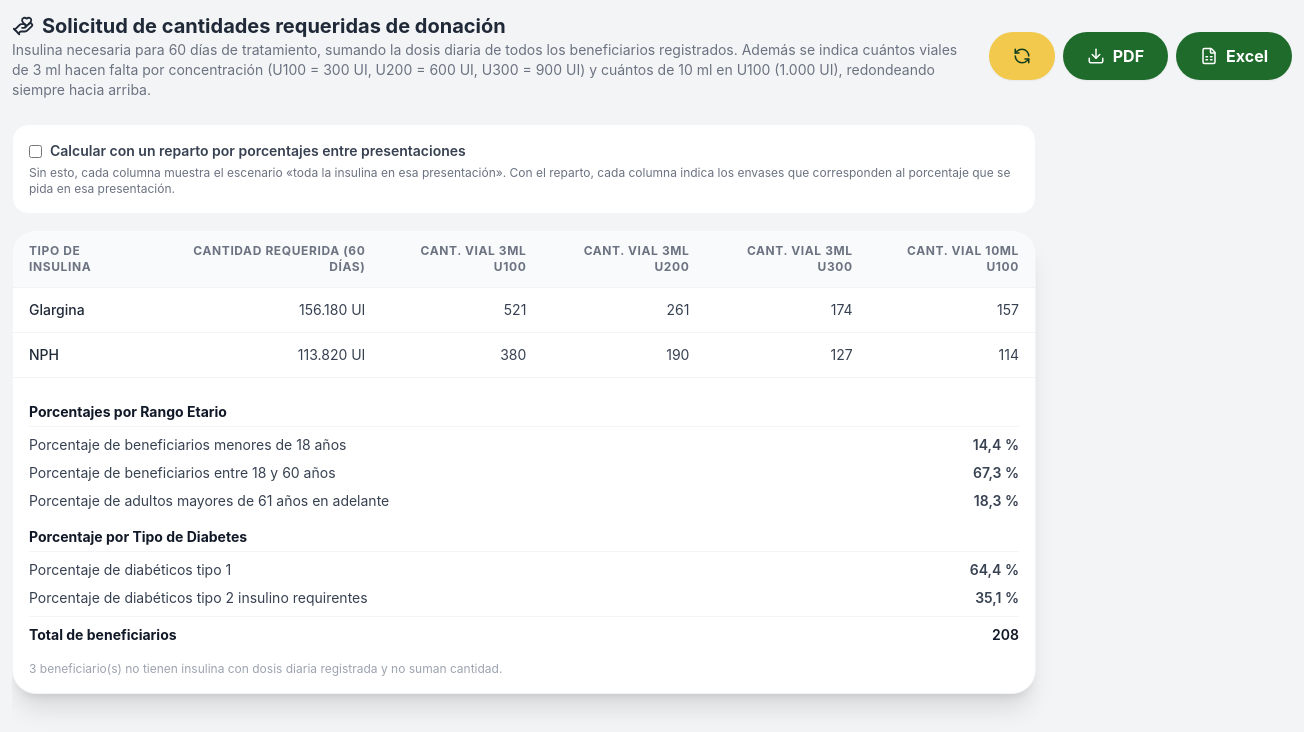
Test: Solicitud de donación: reparto por porcentajes entre presentaciones › si los porcentajes no suman 100 avisa y no pide el cálculo
Check: the text "Glargina" is shown, box [13,288,155,332]
Click the checkbox labelled "Calcular con un reparto por porcentajes entre presentaciones" at (36, 151), box [29,144,42,158]
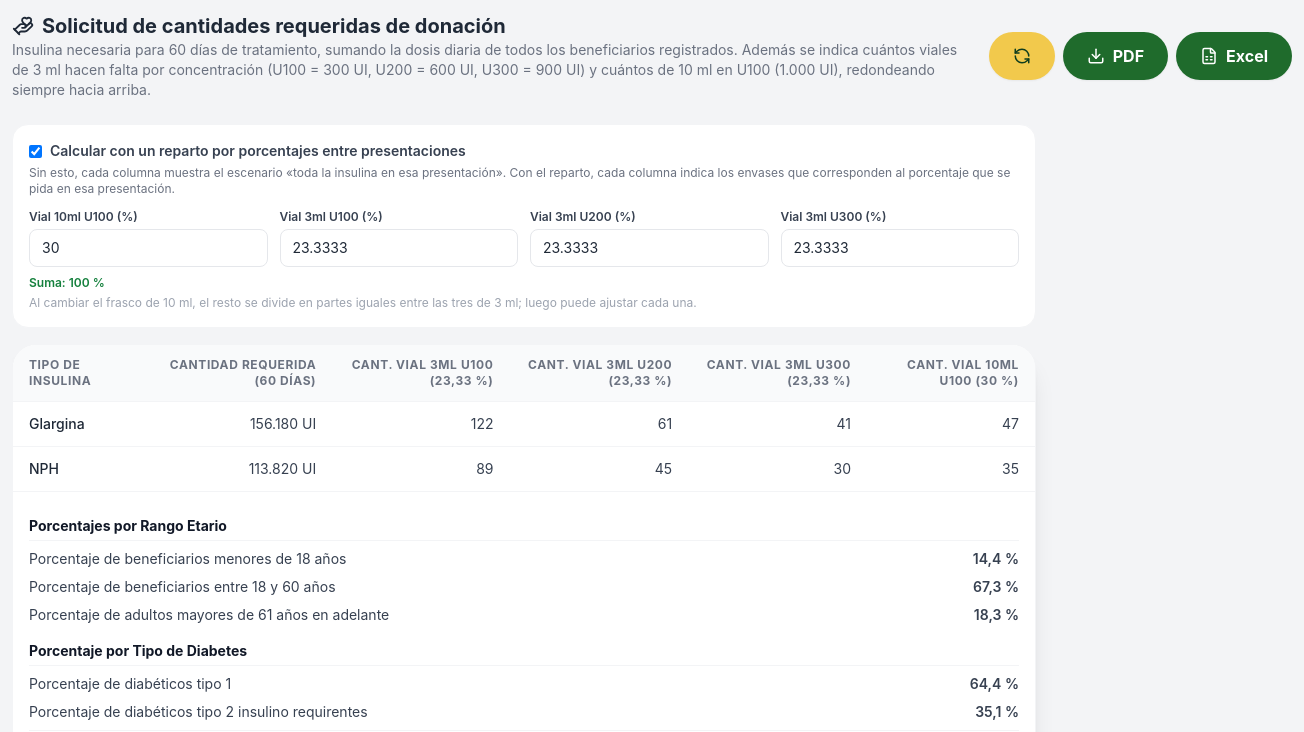
Replace the text in the number field labelled "Vial 3ml U200 (%)" with "50" at (649, 248), box [530,229,768,267]
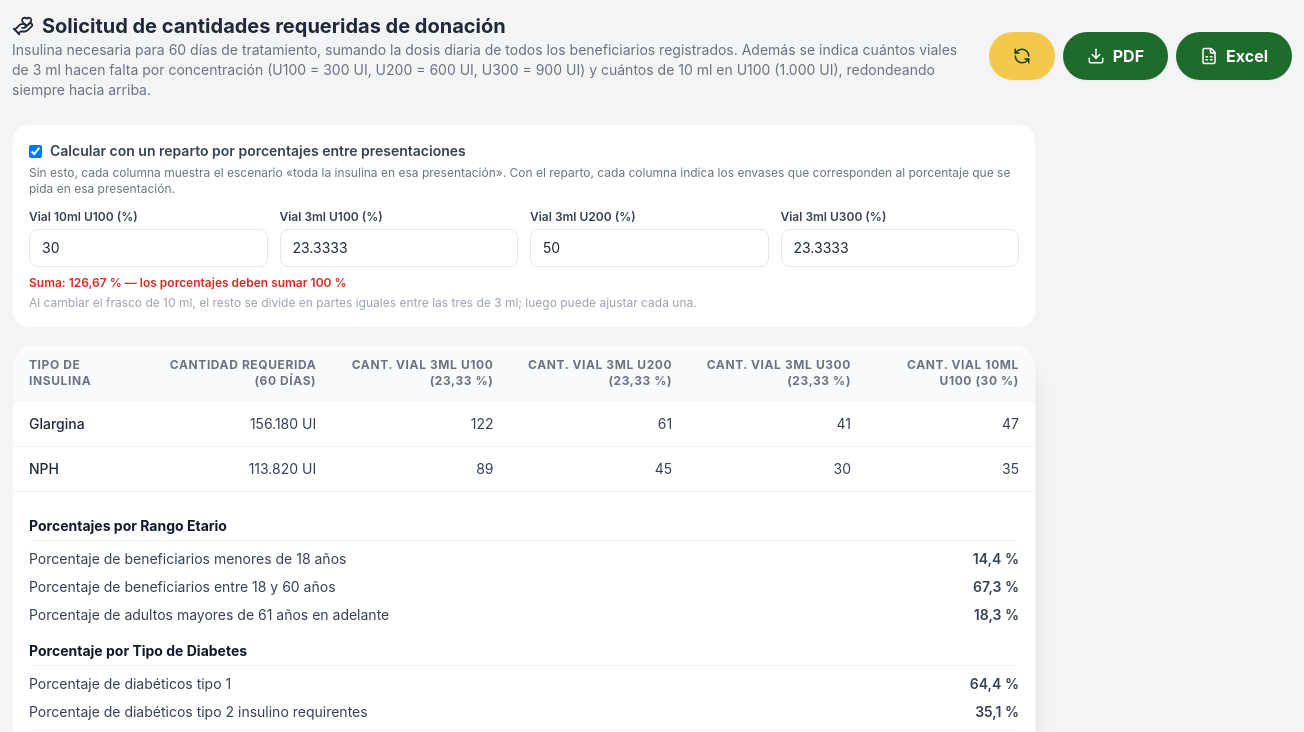
Check: the text "Suma: 126,67 % — los porcentajes deben sumar 100 %" is shown, box [29,275,346,290]
